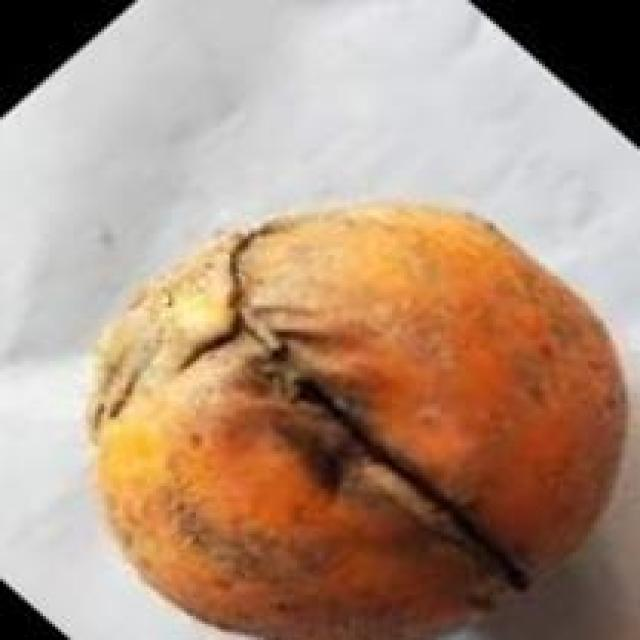damaged: (86, 204, 628, 637)
